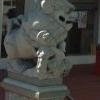Statue: (6, 5, 70, 74)
